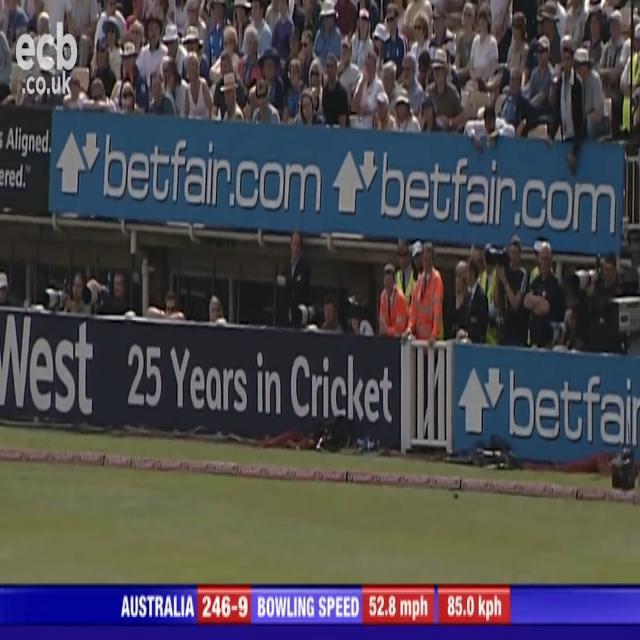ball: (450, 489, 460, 503)
